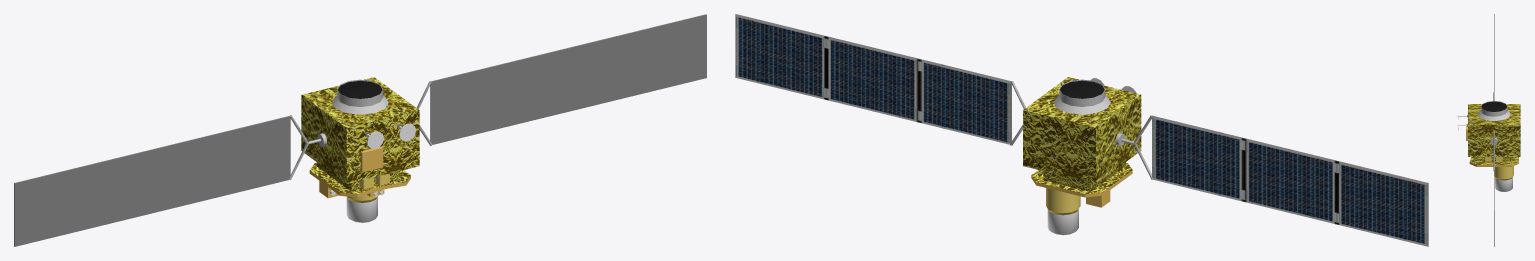
3 views of the same model, side by side, from view 1: azimuth 30°, elevation 25°; view 2: azimuth 150°, elevation 25°; view 3: azimuth 270°, elevation 25° (orthographic). The views are drawn at different scales.
Parts seen in each view (by area): view 1: P______, P________, C____, C, C______, P, _C____; view 2: P______, P________, C____, C1, C, C______, _C____; view 3: P______, C____, C, C1, _C____, C______.
Part boxes in pixels (x1,y1,x2,y2): P______: (14,14,706,246); P________: (346,110,419,191); C____: (331,79,400,135); C: (330,123,411,222); C______: (289,81,432,179); P: (332,124,415,196); _C____: (309,170,410,197); P______: (735,14,1428,246); P________: (1023,110,1095,191); C____: (1053,79,1110,114); C1: (1046,188,1080,215); C: (1047,78,1136,235); C______: (1010,81,1152,179); _C____: (1031,170,1132,197); P______: (1466,14,1520,246); C____: (1467,101,1510,171); C: (1457,111,1512,191); C1: (1494,166,1513,180); _C____: (1469,162,1518,166); C______: (1490,92,1497,168).
Size of the model in its own units: 116 by 22.5 by 15.72.
Materials: 8 (2 with a texture image).
